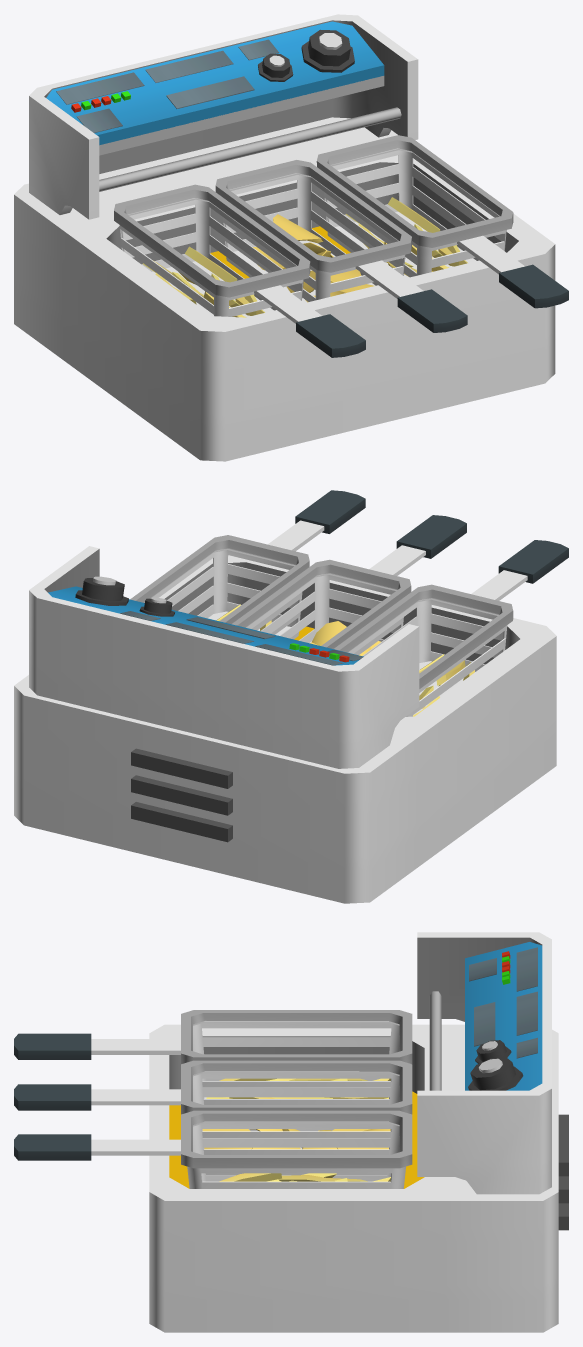
Rendered from Map02_Bepchien_LV5.fbx.
3 views of the same model, one above another, from view 1: azimuth 30°, elevation 25°; view 2: azimuth 150°, elevation 25°; view 3: azimuth 270°, elevation 25° (orthographic).
Parts seen in each view (by area): view 1: Map02_Bepchien_LV5; view 2: Map02_Bepchien_LV5; view 3: Map02_Bepchien_LV5.
Part boxes in pixels (<box>): Map02_Bepchien_LV5: <box>14,14,568,461</box>; Map02_Bepchien_LV5: <box>14,490,568,903</box>; Map02_Bepchien_LV5: <box>14,932,568,1332</box>.
Size of the model in its own units: 107 by 67.67 by 142.
